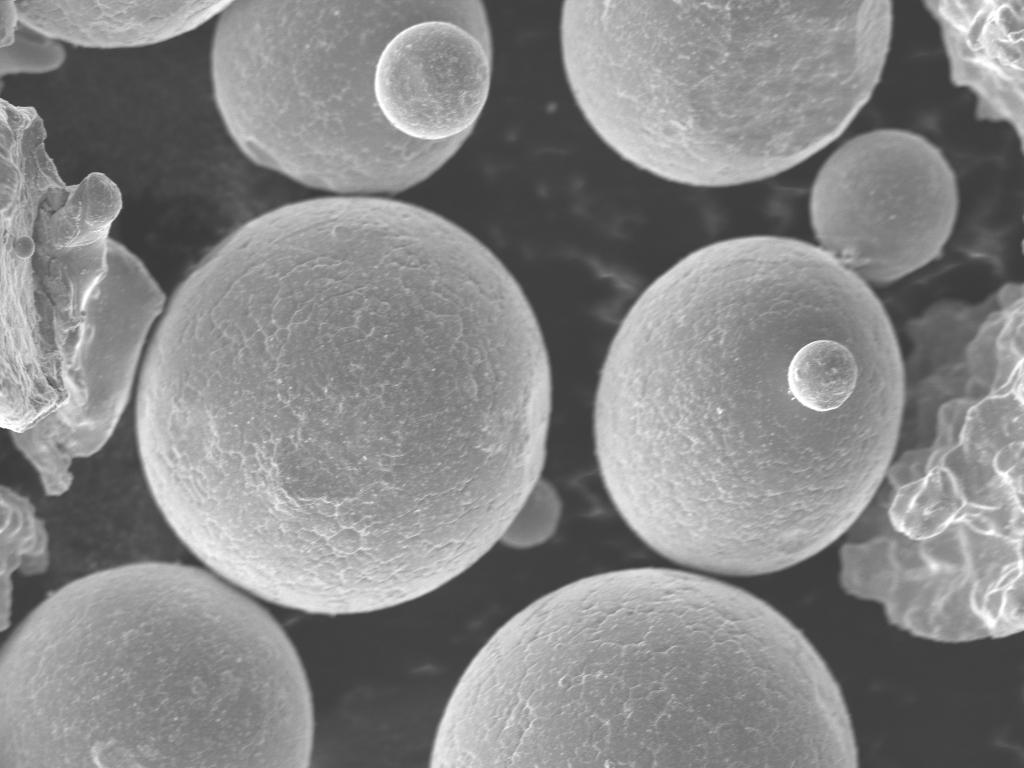Powder: (136, 198, 562, 613), (594, 236, 904, 576), (430, 568, 856, 766), (840, 284, 1024, 642), (0, 100, 164, 493), (0, 562, 314, 766), (562, 0, 890, 186), (212, 0, 492, 194), (810, 130, 958, 285), (926, 0, 1024, 147), (16, 1, 232, 48), (0, 0, 66, 79)
